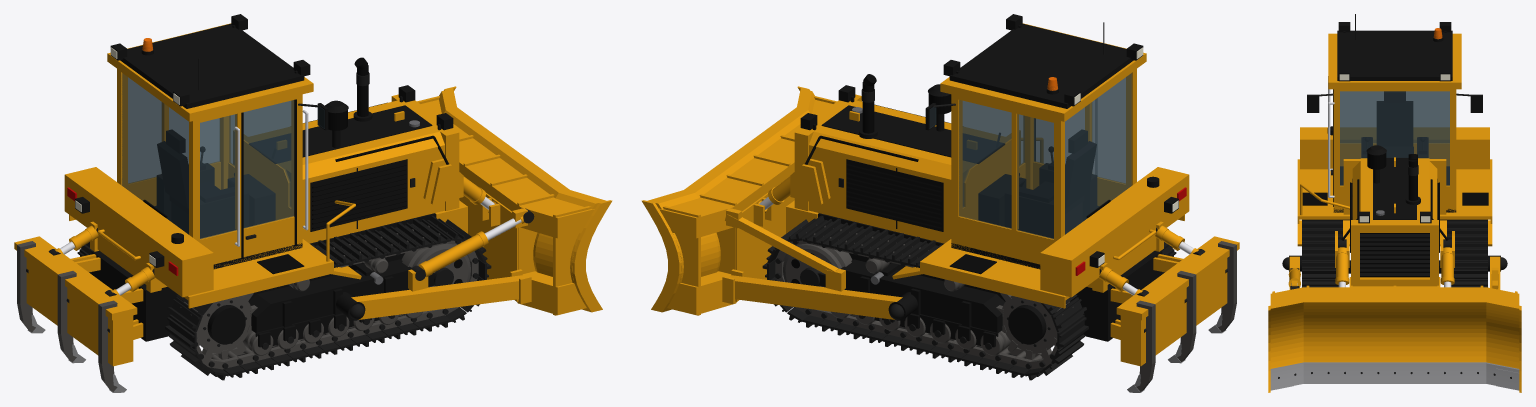
File: crawler_dozer.obj
3 renders of one model, left to right at view 1: azimuth 30°, elevation 25°; view 2: azimuth 150°, elevation 25°; view 3: azimuth 270°, elevation 25°, orthographic. The views are drawn at different scales.
Parts seen in each view (by area): view 1: cab, body, blade, ripper, undercarriage_right, track_right, push_arms, lift_cylinders; view 2: cab, body, blade, ripper, undercarriage_left, track_left, push_arms, lift_cylinders; view 3: blade, body, cab, track_right, track_left, lift_cylinders, push_arms.
Part boxes in pixels (<box>): cab: <box>107,14,328,269</box>; body: <box>64,57,467,308</box>; blade: <box>417,86,612,315</box>; ripper: <box>14,221,175,392</box>; undercarriage_right: <box>197,243,470,359</box>; track_right: <box>165,215,491,380</box>; push_arms: <box>336,208,534,320</box>; lift_cylinders: <box>303,102,496,212</box>; cab: <box>925,14,1146,269</box>; body: <box>786,74,1189,308</box>; blade: <box>641,86,836,315</box>; ripper: <box>1078,221,1239,392</box>; undercarriage_left: <box>783,243,1056,359</box>; track_left: <box>762,215,1088,380</box>; push_arms: <box>725,214,917,320</box>; lift_cylinders: <box>757,104,950,212</box>; blade: <box>1268,280,1521,392</box>; body: <box>1297,126,1492,287</box>; cab: <box>1307,14,1482,214</box>; track_right: <box>1302,219,1342,287</box>; track_left: <box>1447,219,1487,287</box>; lift_cylinders: <box>1335,179,1454,287</box>; push_arms: <box>1282,255,1507,289</box>.
Bounding box in the file's own units: 6.06 × 3.64 × 3.46.
